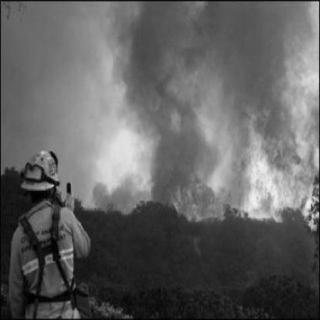Smoke: (125, 6, 301, 170)
